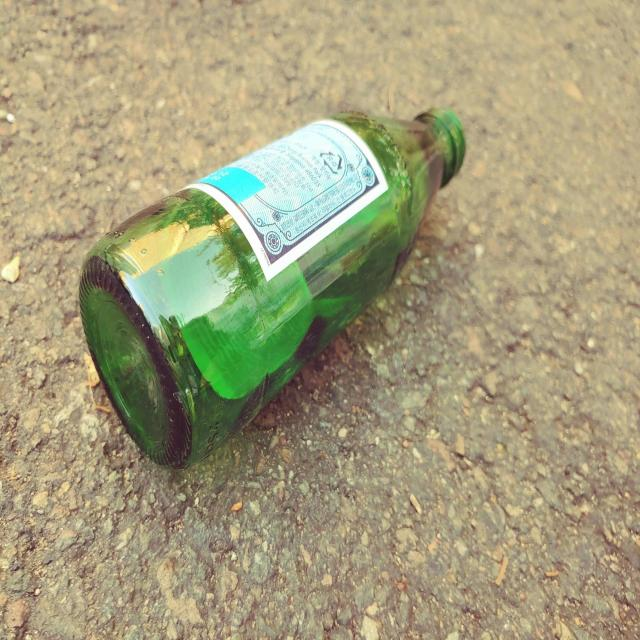glass: (79, 108, 466, 469)
